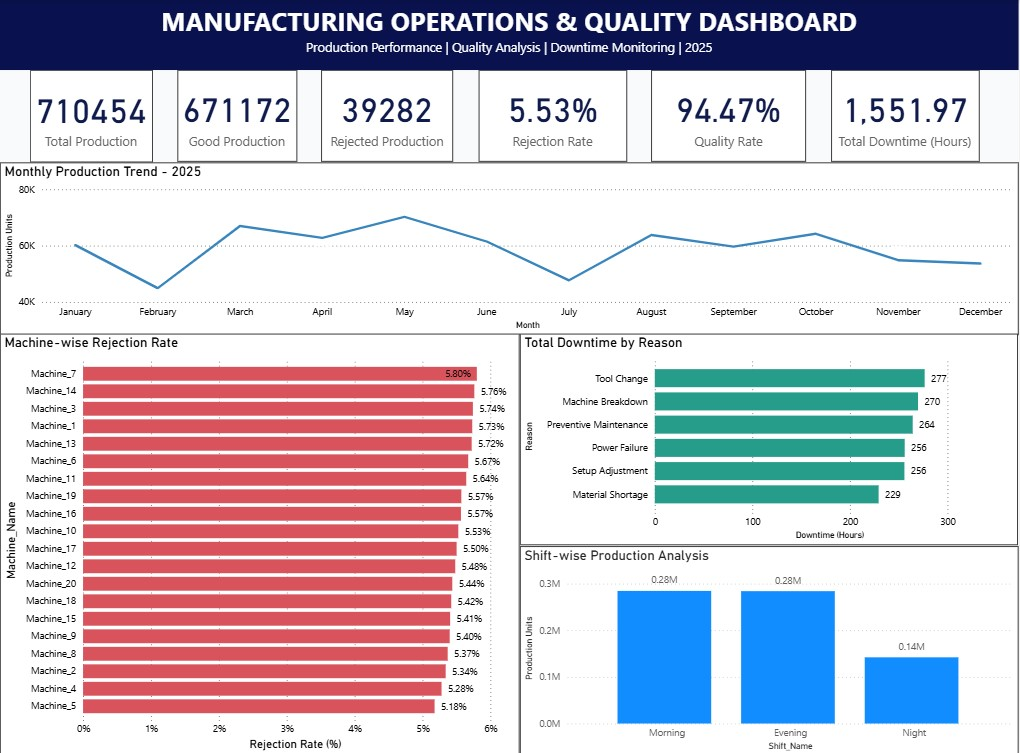

The dashboard page shown, as its layout file describes it:
{"tool":"powerbi","page":{"name":"Page 1","canvas":[1280,950],"ordinal":0},"visuals":[{"type":"card","fields":{"Values":["Production_Records.Total Production"]},"box":[37.1,88.6,154.3,115.7],"z":0},{"type":"card","fields":{"Values":["Production_Records.Good Production"]},"box":[222.7,88.5,150,115.4],"z":1000},{"type":"card","fields":{"Values":["Production_Records.Rejected Production"]},"box":[404,88,165.9,115.4],"z":2000},{"type":"card","fields":{"Values":["Production_Records.Rejection Rate"]},"box":[601.2,88.5,186.1,115.4],"z":3000},{"type":"card","fields":{"Values":["Production_Records.Quality Rate"]},"box":[818.5,88,194.8,115.4],"z":4000},{"type":"card","fields":{"Values":["Downtime_Logs.Total Downtime (Hours)"]},"box":[1044.6,88.5,186.1,115.4],"z":5000},{"type":"lineChart","title":"Monthly Production Trend - 2025","fields":{"Category":["Production_Records.Production_Date.Variation.Date Hierarchy.Month"],"Y":["Production_Records.Total Production"]},"box":[0,203.4,1279.7,216.4],"z":6000},{"type":"clusteredBarChart","title":"Machine-wise Rejection Rate","fields":{"Category":["Machines.Machine_Name"],"Y":["Production_Records.Rejection Rate"]},"box":[0,420,652.9,530],"z":7000},{"type":"clusteredBarChart","title":"Total Downtime by Reason","fields":{"Category":["Downtime_Logs.Reason"],"Y":["Downtime_Logs.Total Downtime (Hours)"]},"box":[652.9,420,625.7,265.7],"z":8000},{"type":"textbox","box":[0,0,1279.7,88],"z":9000},{"type":"clusteredColumnChart","title":"Shift-wise Production Analysis","fields":{"Category":["Production_Records.Shift_Name"],"Y":["Production_Records.Total Production"]},"box":[653,686,626,264],"z":9001}]}

Visuals, with their boxes in screenshot pixels (x1, y1, x2, y2), scaled from the page's 1280x950 canvas onto the 1020x753 screenshot:
card - Production_Records.Total Production: <region>30, 70, 153, 162</region>
card - Production_Records.Good Production: <region>177, 70, 297, 162</region>
card - Production_Records.Rejected Production: <region>322, 70, 454, 161</region>
card - Production_Records.Rejection Rate: <region>479, 70, 627, 162</region>
card - Production_Records.Quality Rate: <region>652, 70, 807, 161</region>
card - Downtime_Logs.Total Downtime (Hours): <region>832, 70, 981, 162</region>
"Monthly Production Trend - 2025" lineChart: <region>0, 161, 1019, 333</region>
"Machine-wise Rejection Rate" clusteredBarChart: <region>0, 333, 520, 752</region>
"Total Downtime by Reason" clusteredBarChart: <region>520, 333, 1019, 544</region>
textbox: <region>0, 0, 1019, 70</region>
"Shift-wise Production Analysis" clusteredColumnChart: <region>520, 544, 1019, 752</region>
